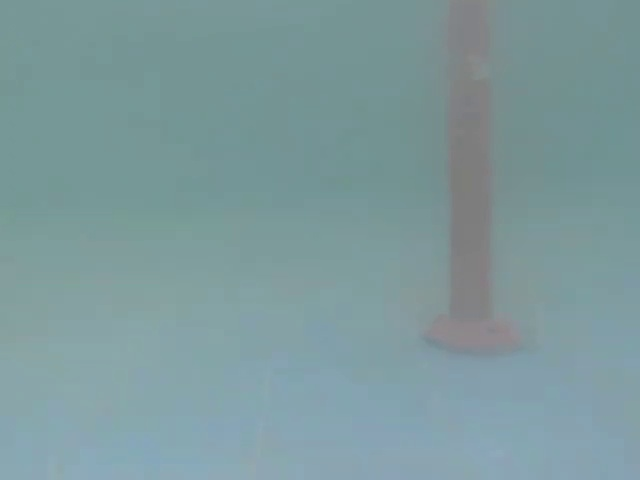flare: (409, 0, 537, 362)
